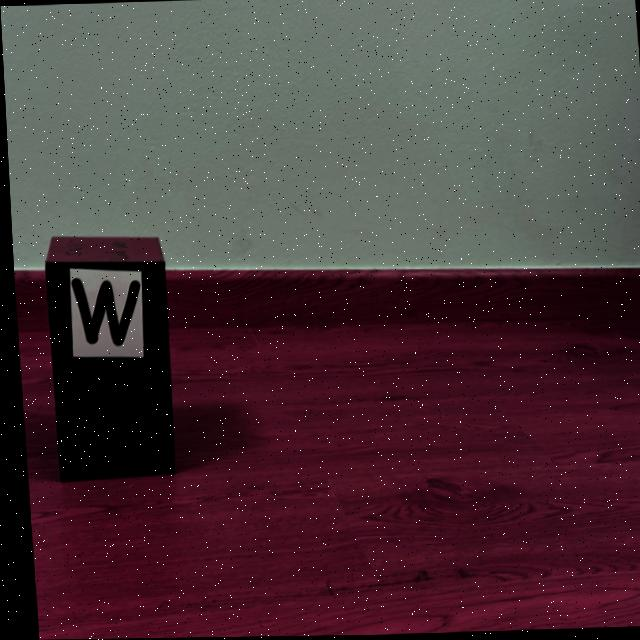W: (68, 279, 136, 344)
